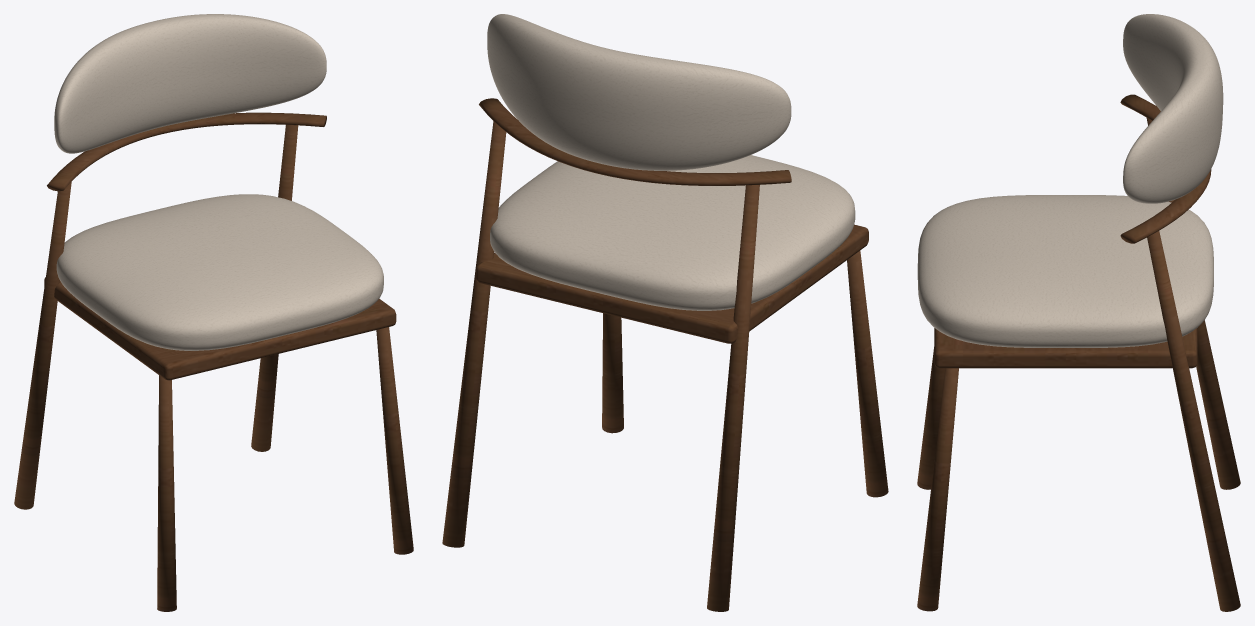
File: siesta-dining-set--dchair.glb
3 renders of one model, left to right at view 1: azimuth 30°, elevation 25°; view 2: azimuth 150°, elevation 25°; view 3: azimuth 270°, elevation 25°, orthographic. The views are drawn at different scales.
Visible parts, largest first — view 1: seat, backpad, seatrail, lb-1, lf-1, lf1, backrail, lb1; view 2: seat, backpad, seatrail, lb-1, lb1, lf-1, backrail, lf1; view 3: seat, backpad, lb1, seatrail, lf1, lb-1, backrail, lf-1.
Part boxes in pixels (x1,y1,x2,y2): seat: [56, 194, 383, 350]; backpad: [54, 14, 326, 153]; seatrail: [44, 277, 396, 380]; lb-1: [14, 182, 71, 509]; lf-1: [157, 375, 176, 611]; lf1: [376, 327, 413, 554]; backrail: [47, 112, 326, 191]; lb1: [251, 125, 298, 451]; seat: [490, 155, 855, 310]; backpad: [487, 14, 791, 170]; seatrail: [476, 224, 868, 343]; lb-1: [707, 179, 759, 611]; lb1: [442, 116, 506, 547]; lf-1: [847, 251, 888, 497]; backrail: [479, 98, 791, 185]; lf1: [602, 313, 623, 433]; seat: [917, 195, 1213, 347]; backpad: [1123, 14, 1223, 203]; lb1: [1147, 231, 1240, 611]; seatrail: [934, 328, 1197, 368]; lf1: [917, 368, 958, 611]; lb-1: [1146, 118, 1240, 489]; backrail: [1120, 94, 1211, 243]; lf-1: [917, 347, 945, 489].
Size of the model in its own units: 0.5206 by 0.8229 by 0.4916.
2 materials, 2 textured.
